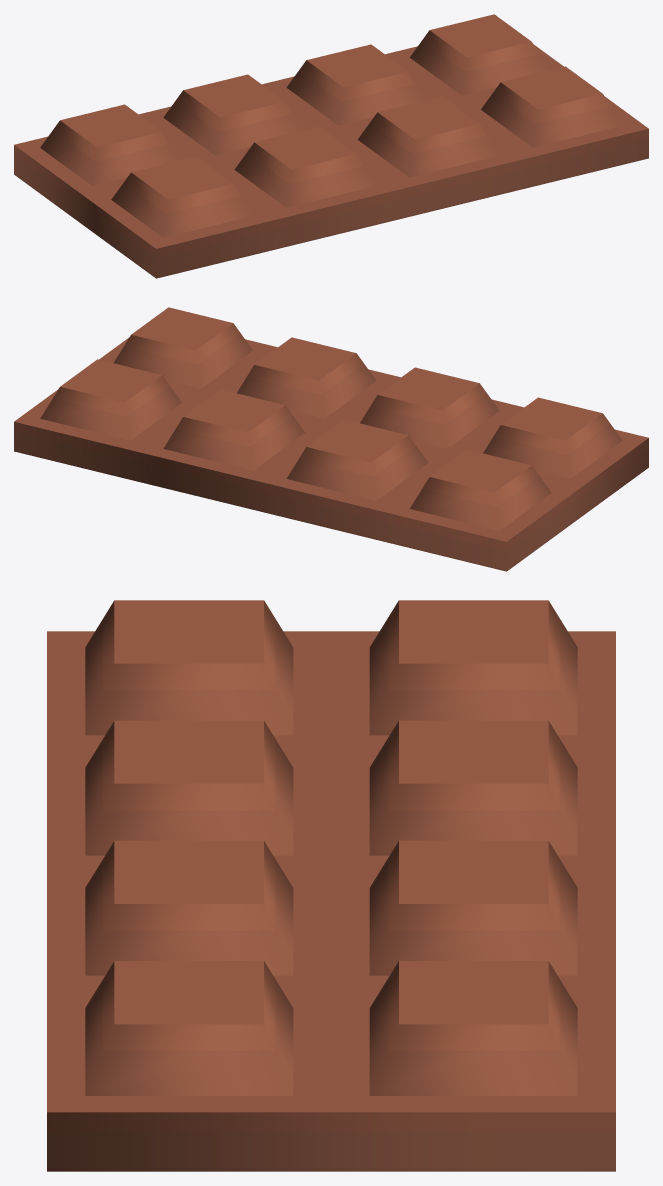
Rendered from chocolate.glb.
3 views of the same model, one above another, from view 1: azimuth 30°, elevation 25°; view 2: azimuth 150°, elevation 25°; view 3: azimuth 270°, elevation 25° (orthographic). The views are drawn at different scales.
Parts seen in each view (by area): view 1: chocolate; view 2: chocolate; view 3: chocolate.
Part boxes in pixels (bbox=[...]): chocolate: bbox=[14, 14, 648, 278]; chocolate: bbox=[14, 307, 648, 571]; chocolate: bbox=[47, 600, 615, 1171].
Bounding box in the file's own units: 0.2924 × 0.0337 × 0.1462.
1 material, 1 textured.
